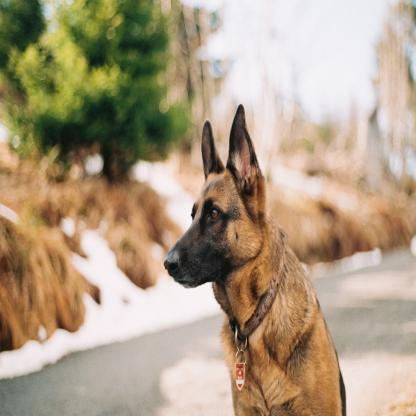dog: (161, 99, 347, 416)
